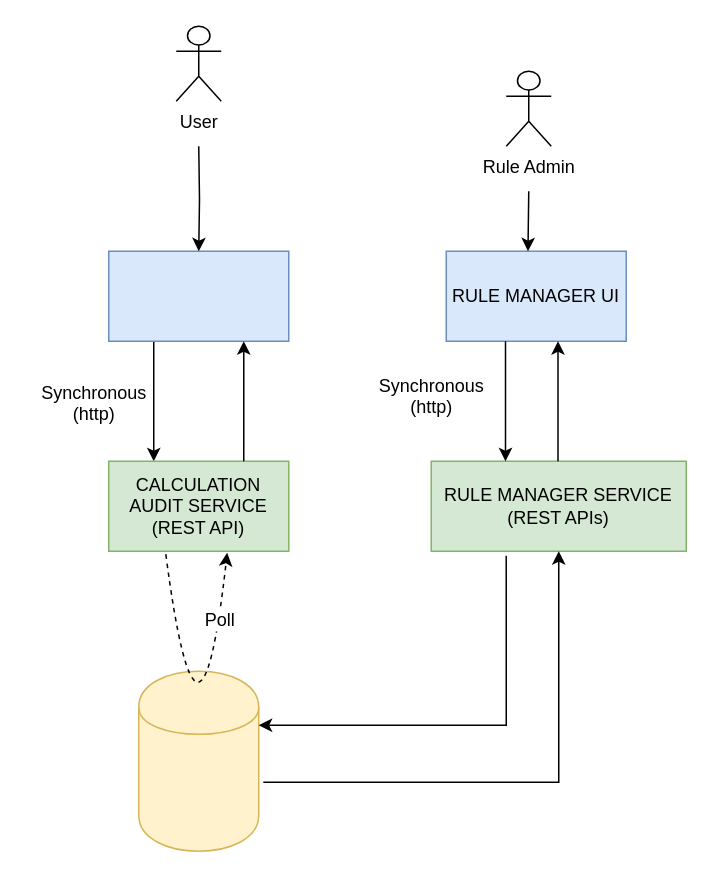
Image size: 713x878. Some labels were removed from this diagram. The centre of each missing label's shape, as x and y in pixels:
"CLIENT (Desktop/Mobile)" goes at pixel 198 295.
"RIAK (Config Repo)" goes at pixel 198 760.
